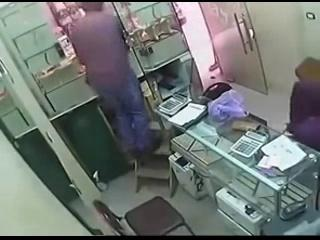Normal: (46, 3, 160, 159)
